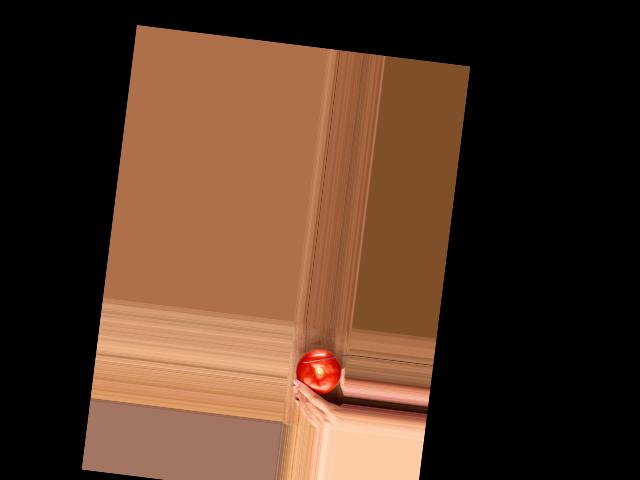tomato: (294, 347, 343, 396)
